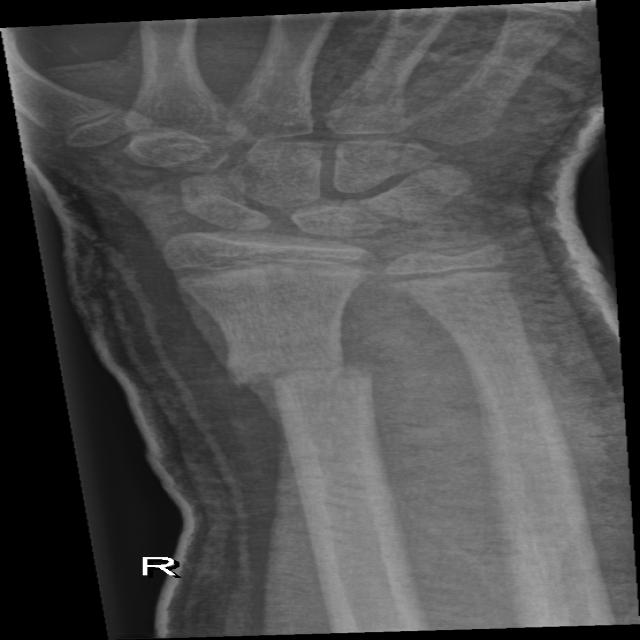radius fracture: (211, 303, 392, 450)
